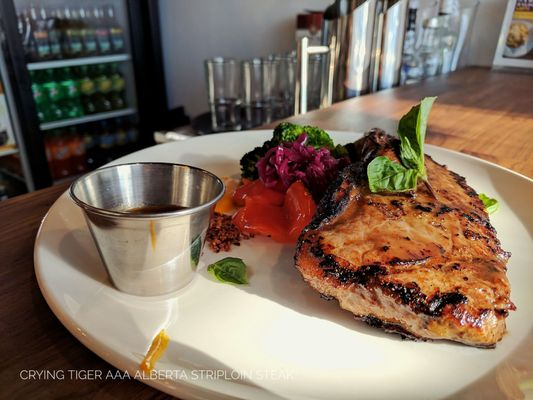soup: (293, 146, 516, 347)
sushi: (69, 161, 226, 298)
